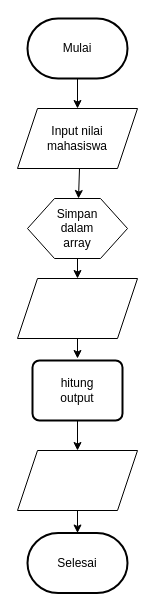
Image size: 155x611. Some labels were removed from this diagram. The shapes that lost their labels are listed below. From the top down, each one's centre as x and y in pixels, then its label:
At (77,308): "input 'q'".
At (77,480): "keluarkan data output".
